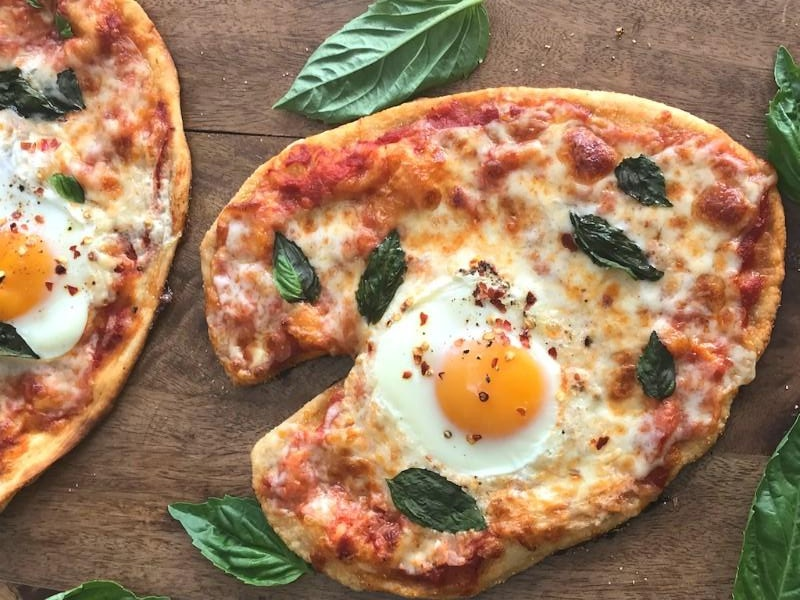oeuf: (417, 312, 562, 450)
